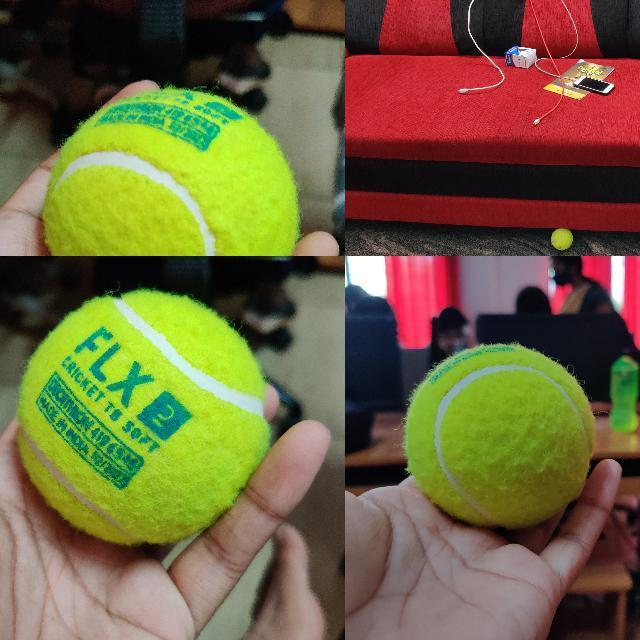tennis-ball: (18, 291, 270, 544), (43, 89, 298, 255), (404, 343, 594, 529), (551, 228, 573, 250)
